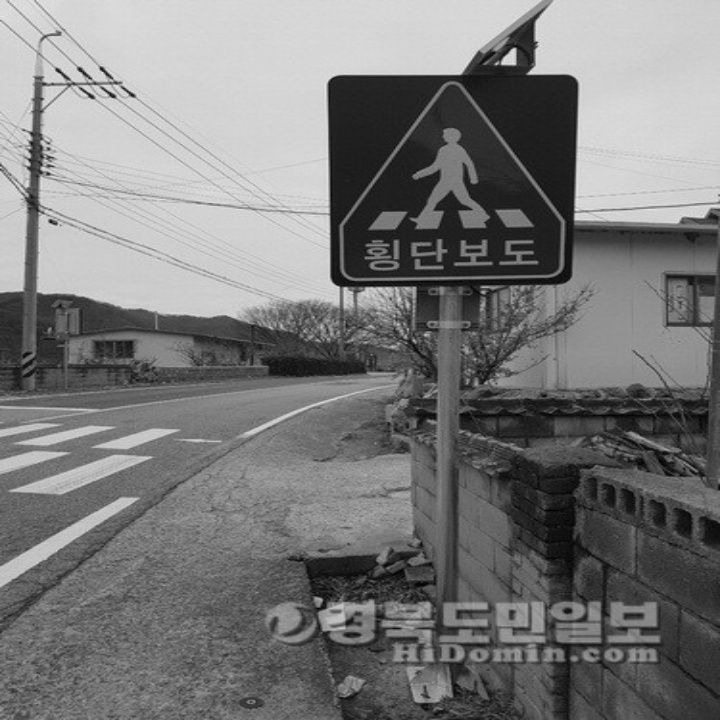cross: (341, 103, 559, 241)
